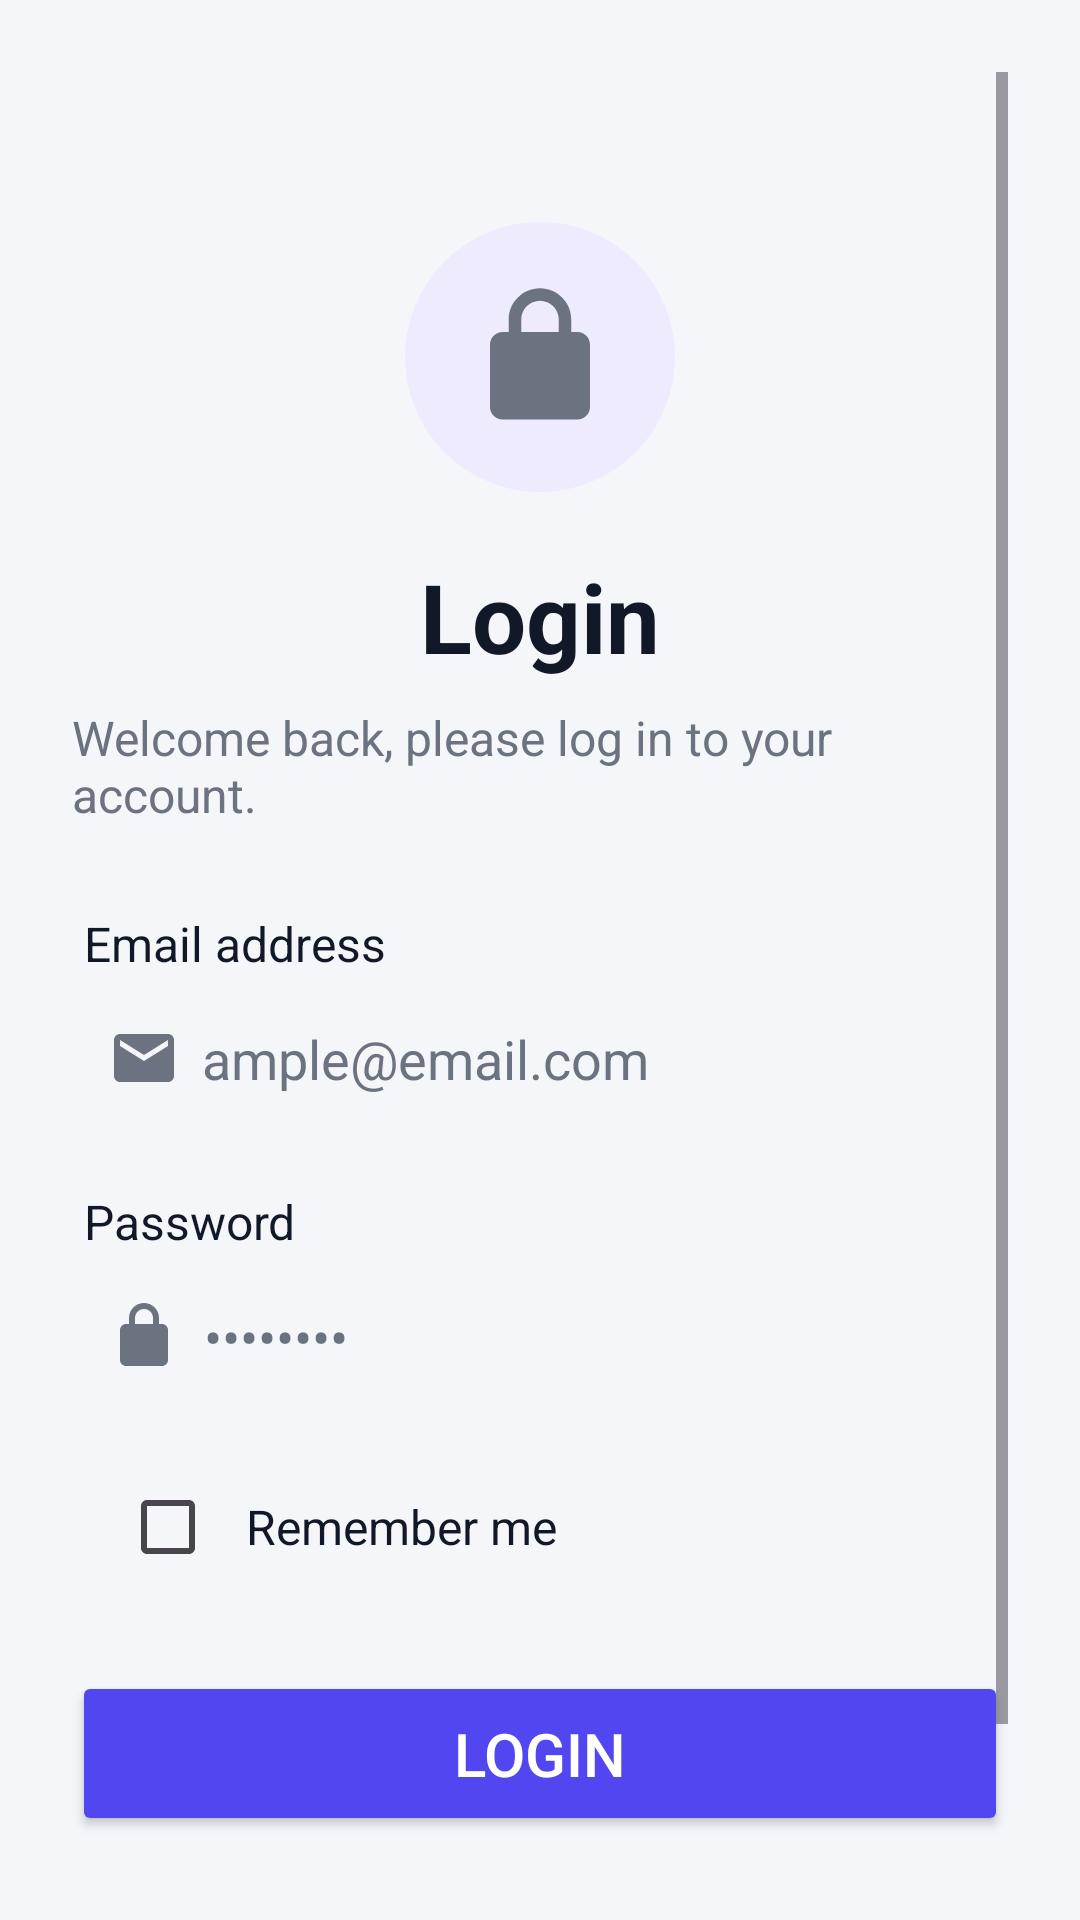

Icon click points for this 1080 x 1920 phone screenshot, format (x=x, y=y):
lock: (x=540, y=354), (x=144, y=1334)
